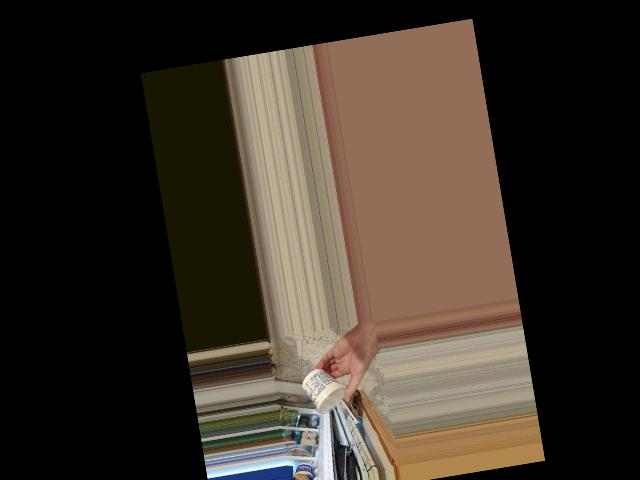cotage: (301, 366, 347, 416)
